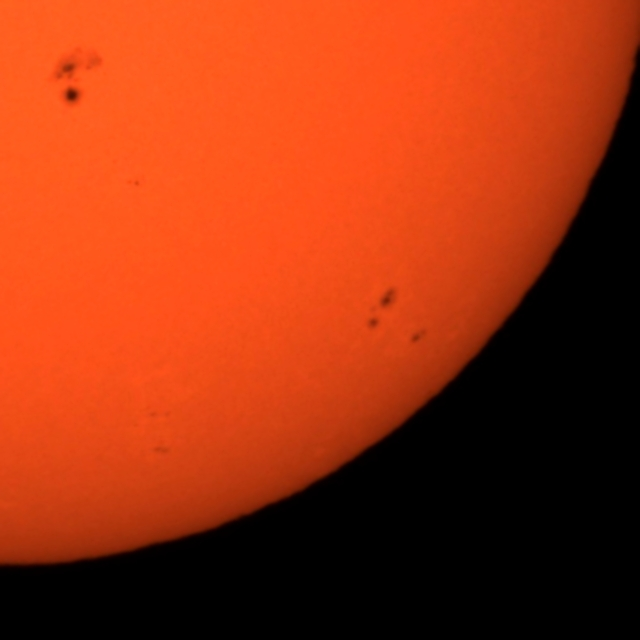sunspot: (51, 49, 108, 108), (365, 286, 397, 334), (408, 326, 428, 348), (124, 176, 142, 190)
